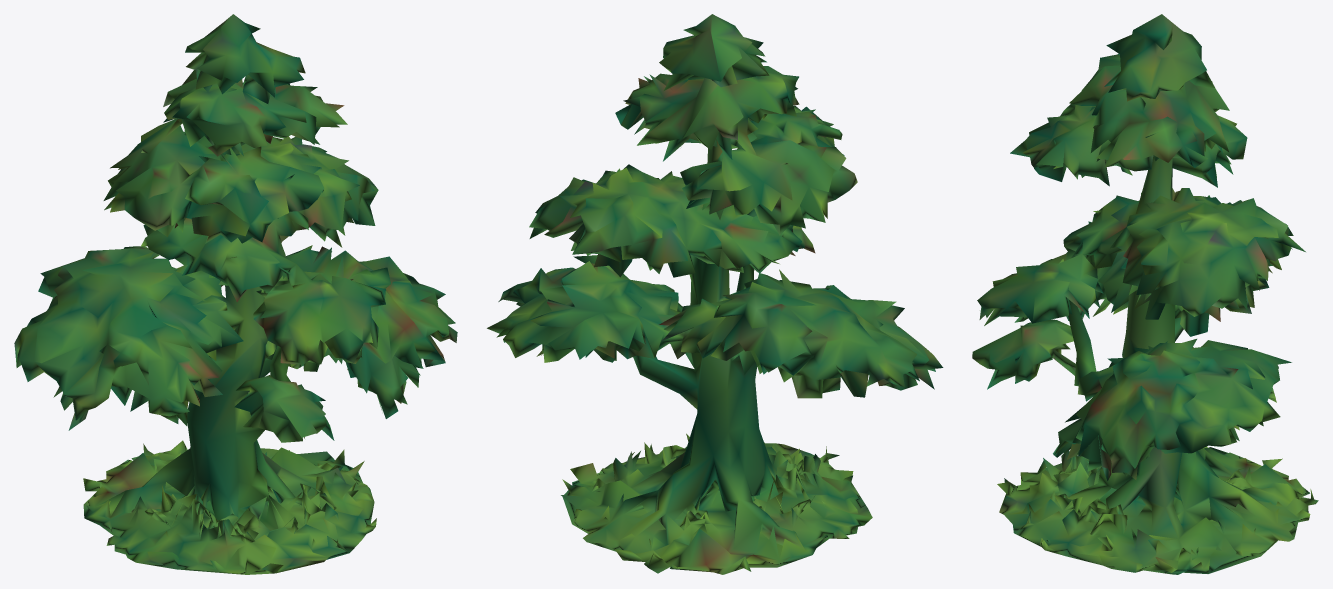
The model's file is pine.glb.
The picture shows the model from 3 angles, left to right: view 1: azimuth 30°, elevation 25°; view 2: azimuth 150°, elevation 25°; view 3: azimuth 270°, elevation 25°; orthographic projection.
Visible parts, largest first — view 1: Pine_LOD0; view 2: Pine_LOD0; view 3: Pine_LOD0.
Boxes of the visible parts, x1,y1,x2,y2 form: Pine_LOD0: (14,14,457,574); Pine_LOD0: (487,14,943,574); Pine_LOD0: (972,14,1318,574).
Size of what is drawn, in the model's own units: 0.8801 by 1 by 0.6299.
